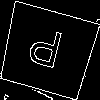P: (22, 25, 65, 78)
